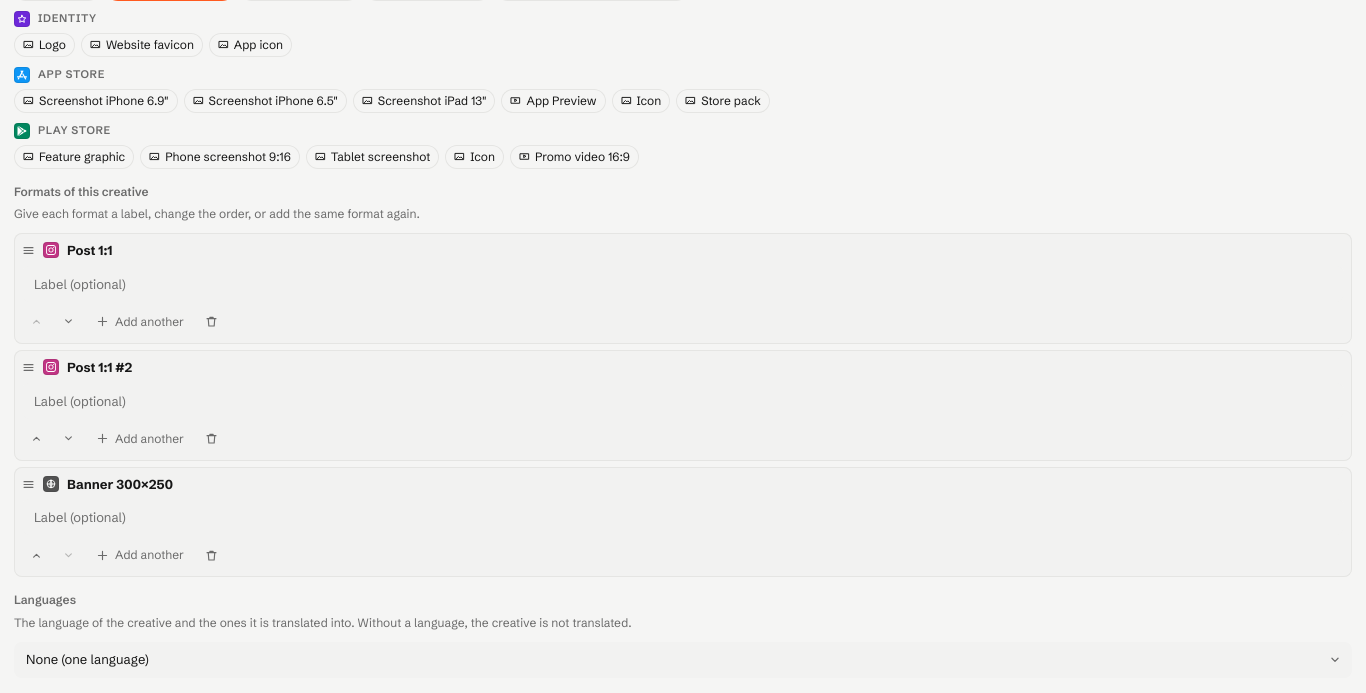
format instances · brief editor › a partial-save failure is shown
The image size is (1366, 693).
(page scrolled)
Click the button named "Move Post 1:1 down" at point(68, 322), box 54,308 -> 82,336
(page scrolled)
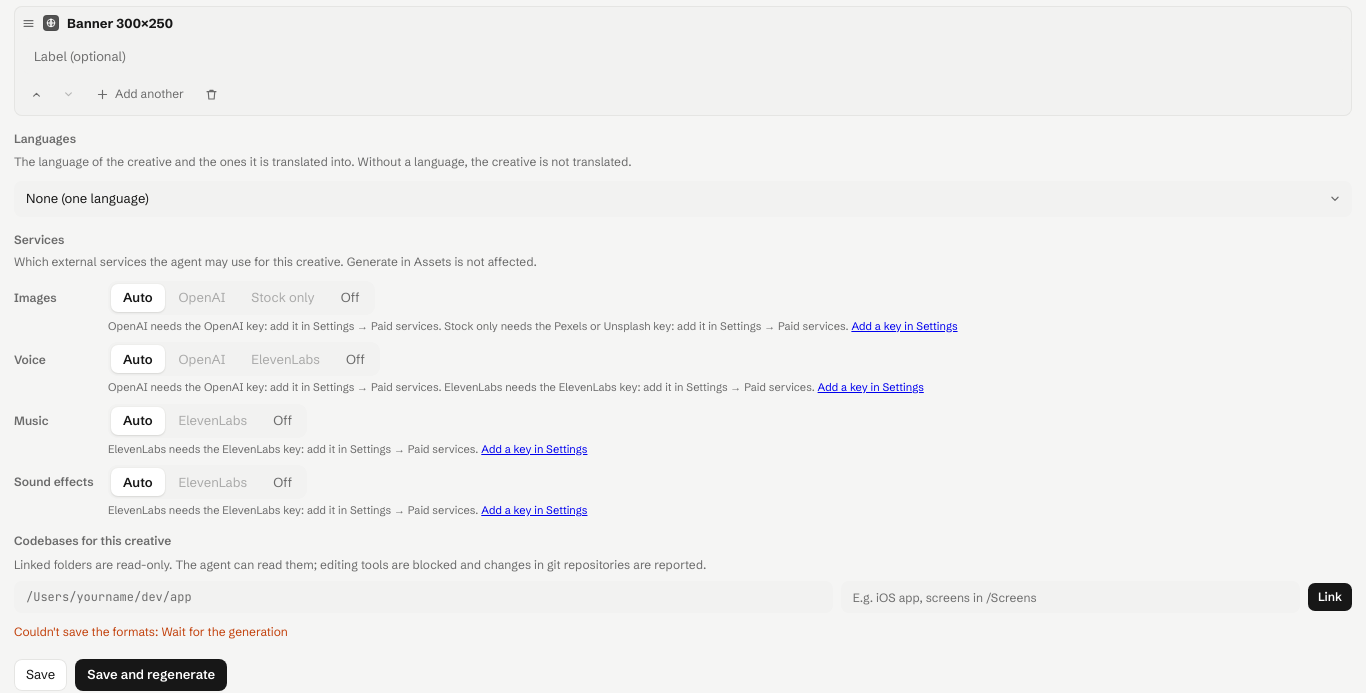
Expected: the message reads "Couldn't save the formats: Wait for the generation", 14,624 -> 288,639
